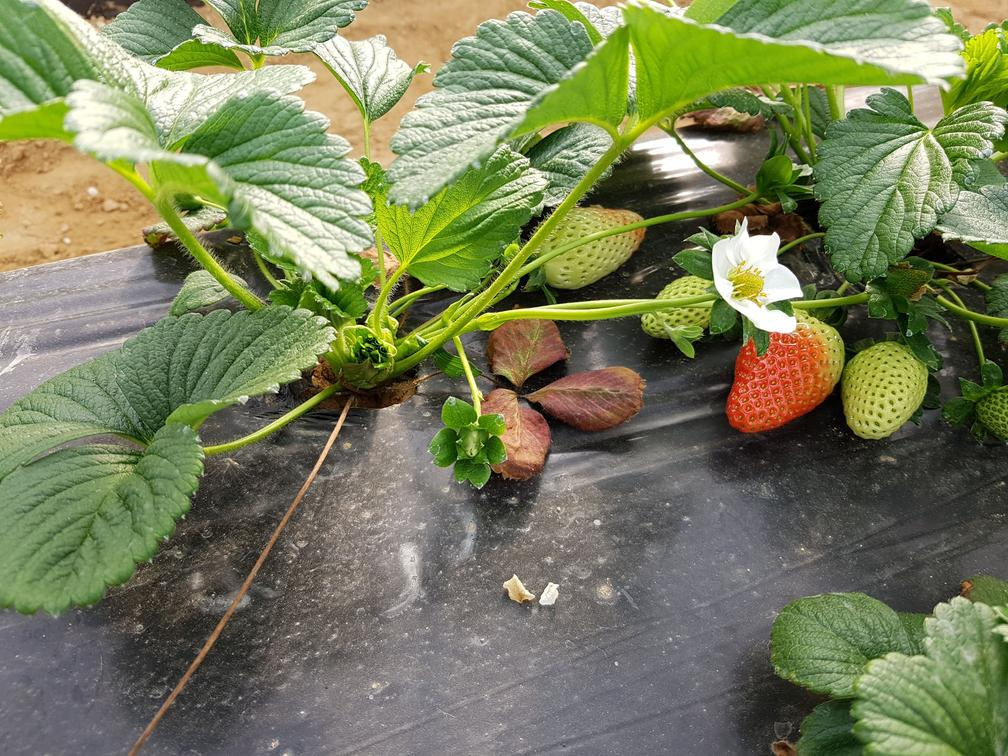Ripe: (731, 314, 846, 430)
Unripe: (846, 347, 930, 439), (545, 217, 638, 281)
